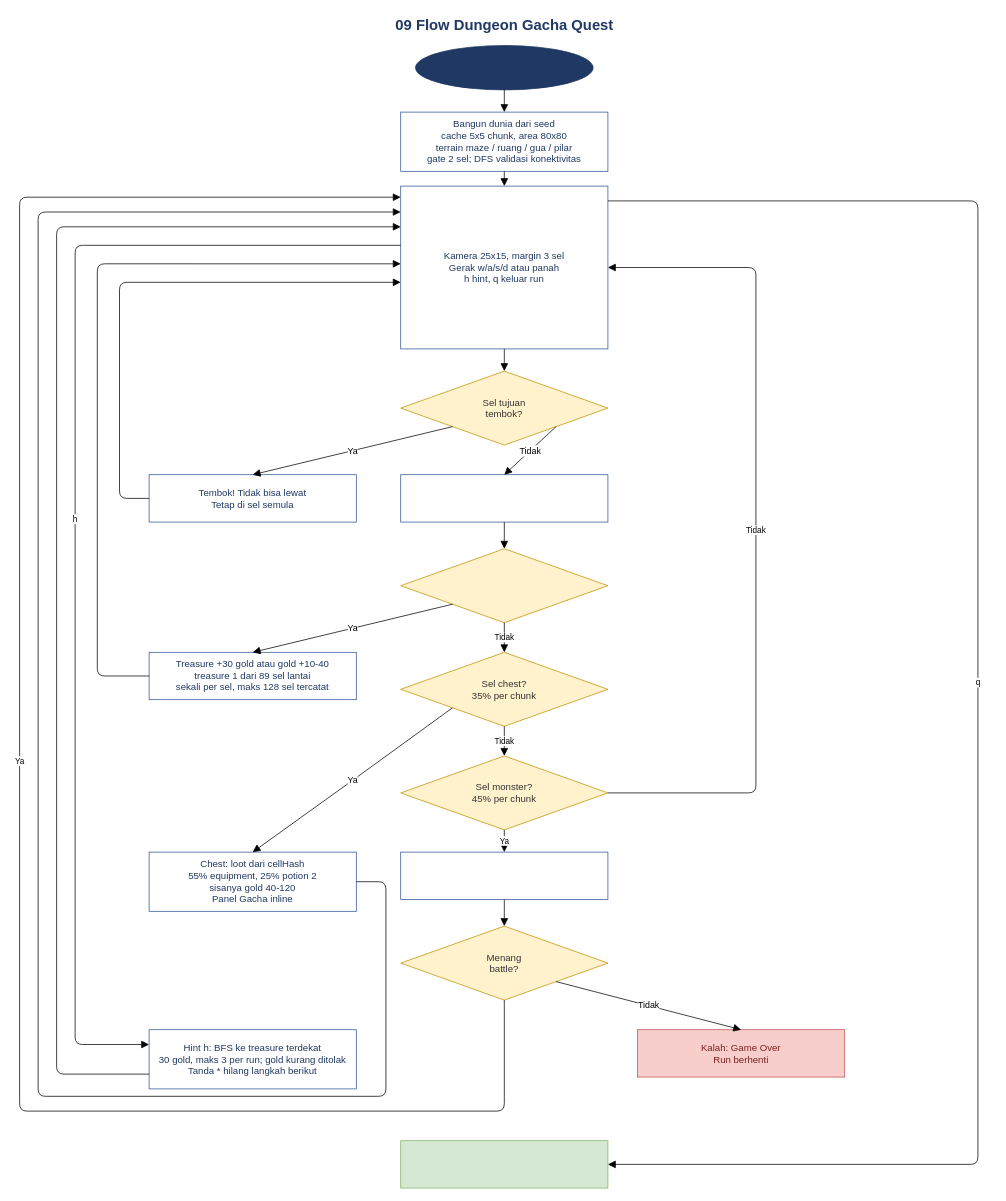
The diagram is 1006 pixels wide and 1201 high, and some of its shapes have lost their labels. Each missing label, with the centre of its shape:
"Keluar run (q) Kembali ke Hub" goes at point (504, 1164).
"Masuk sel, hitung isi cellHash(seed,x,y) + dungeonCell" goes at point (504, 498).
"Monster: startBattleAgainst Panel Battle inline" goes at point (504, 875).
"Mulai dari Hub 5 runDungeon / resumeDungeon" goes at point (504, 67).
"Sel treasure atau gold?" goes at point (504, 585).
